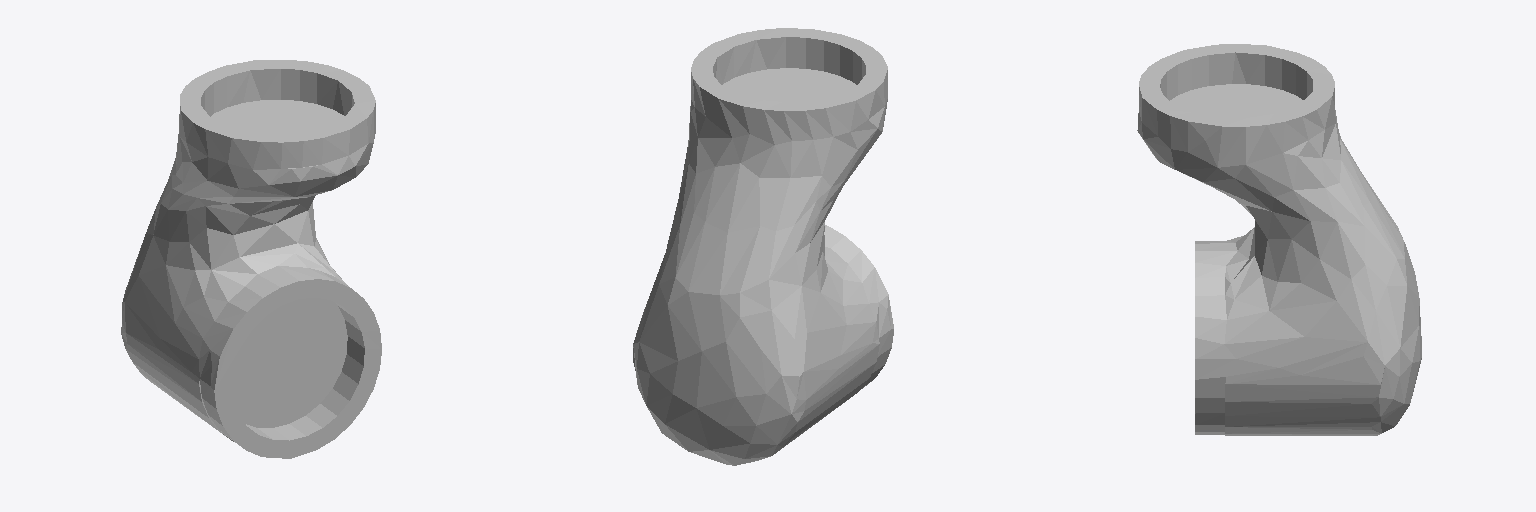
File: dual_rm_75b_description_l_link5_visuals_l_link5_mesh.obj
The picture shows the model from 3 angles: view 1: azimuth 30°, elevation 25°; view 2: azimuth 150°, elevation 25°; view 3: azimuth 270°, elevation 25°; orthographic projection.
Bounding box in the file's own units: 0.0586 × 0.11 × 0.0832.